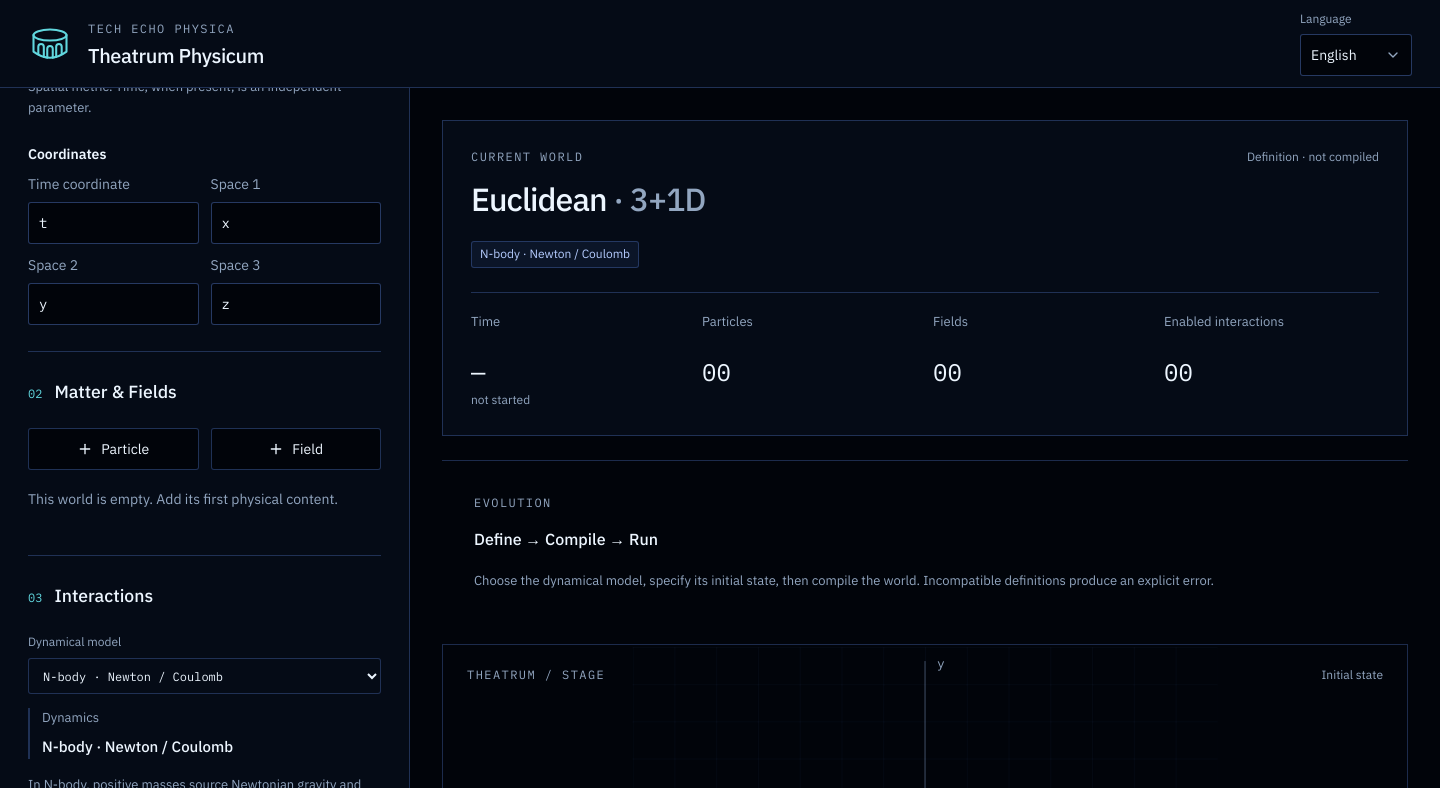
Test: Actual runtime controls › reports incompatible geometry instead of starting a fake runtime
(page scrolled)
Click the button "Particle" at coordinates (113, 449), box [28,428,198,470]
(page scrolled)
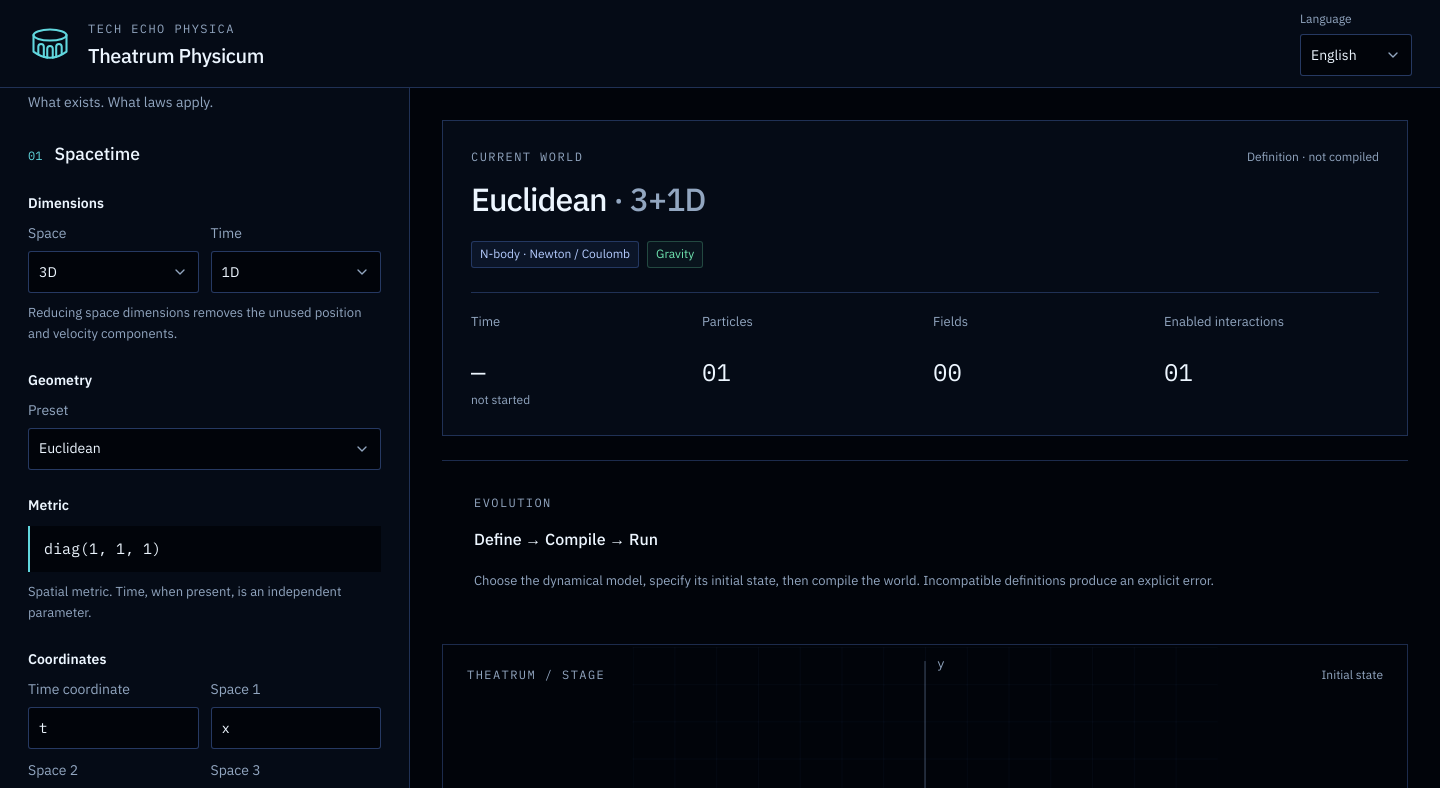
Click the dropdown named "Preset" at coordinates (70, 448), box [28,428,381,470]
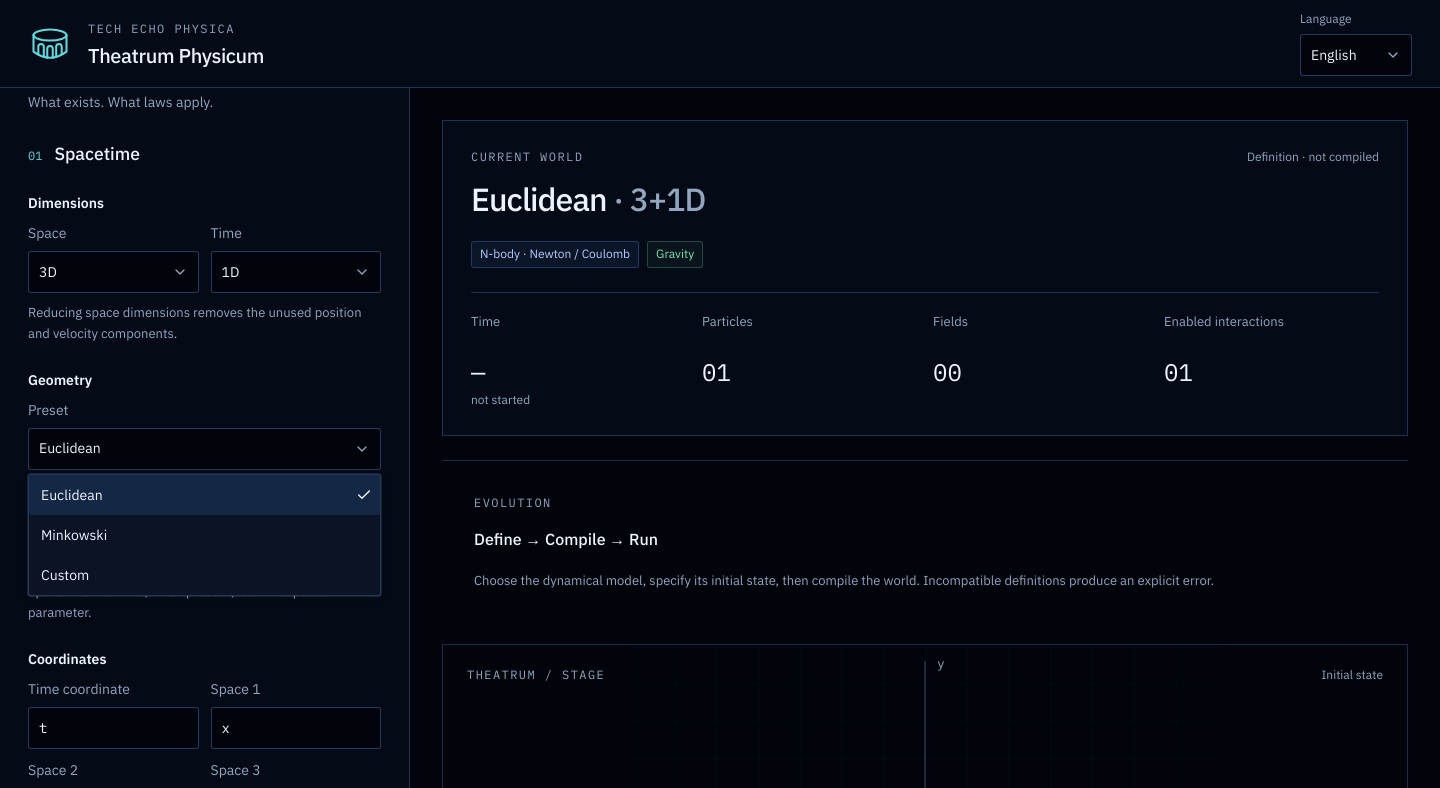
Click the option "Minkowski" at coordinates (74, 535), box [41,526,107,544]
(page scrolled)
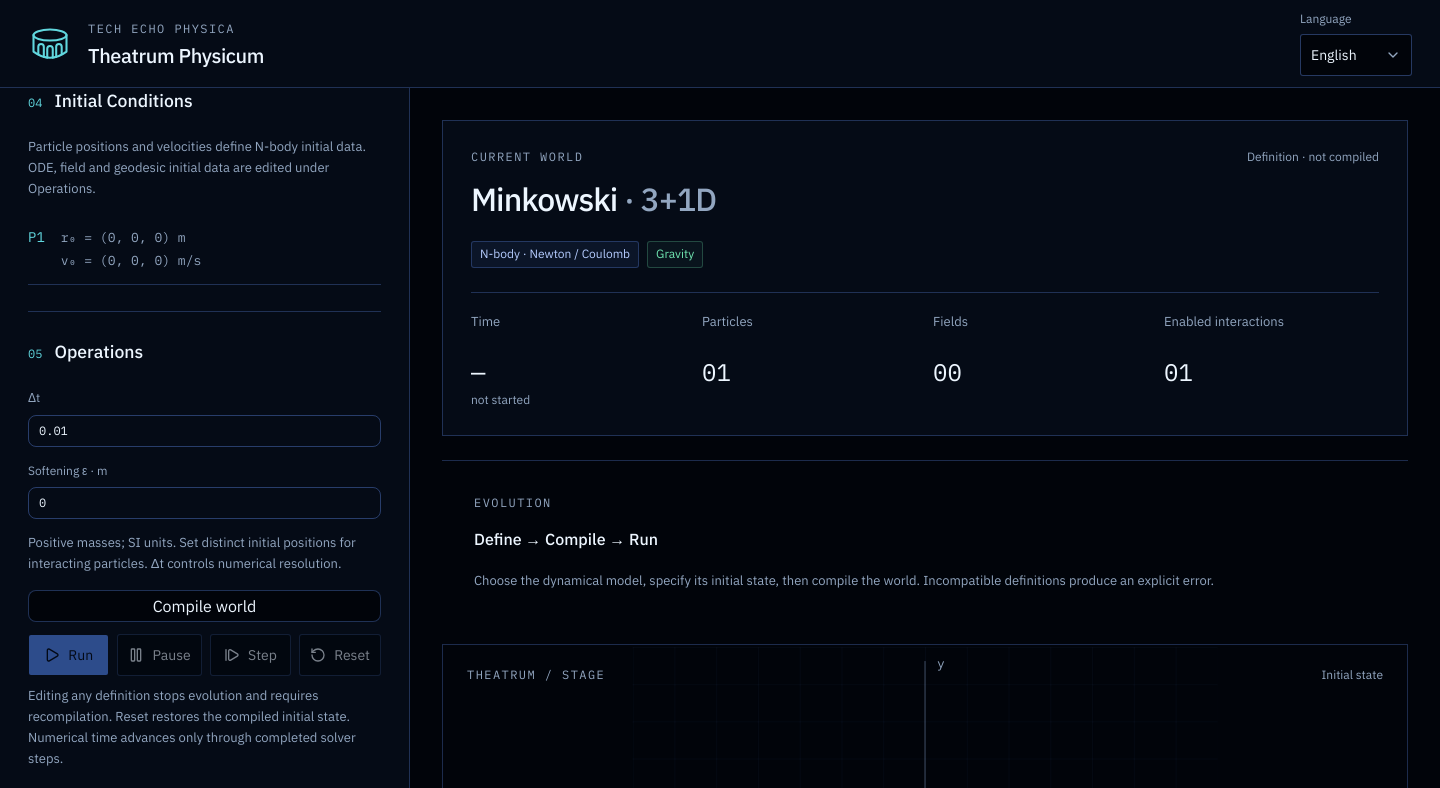
Click the button "Compile world" at coordinates (204, 606), box [28,590,381,622]
(page scrolled)
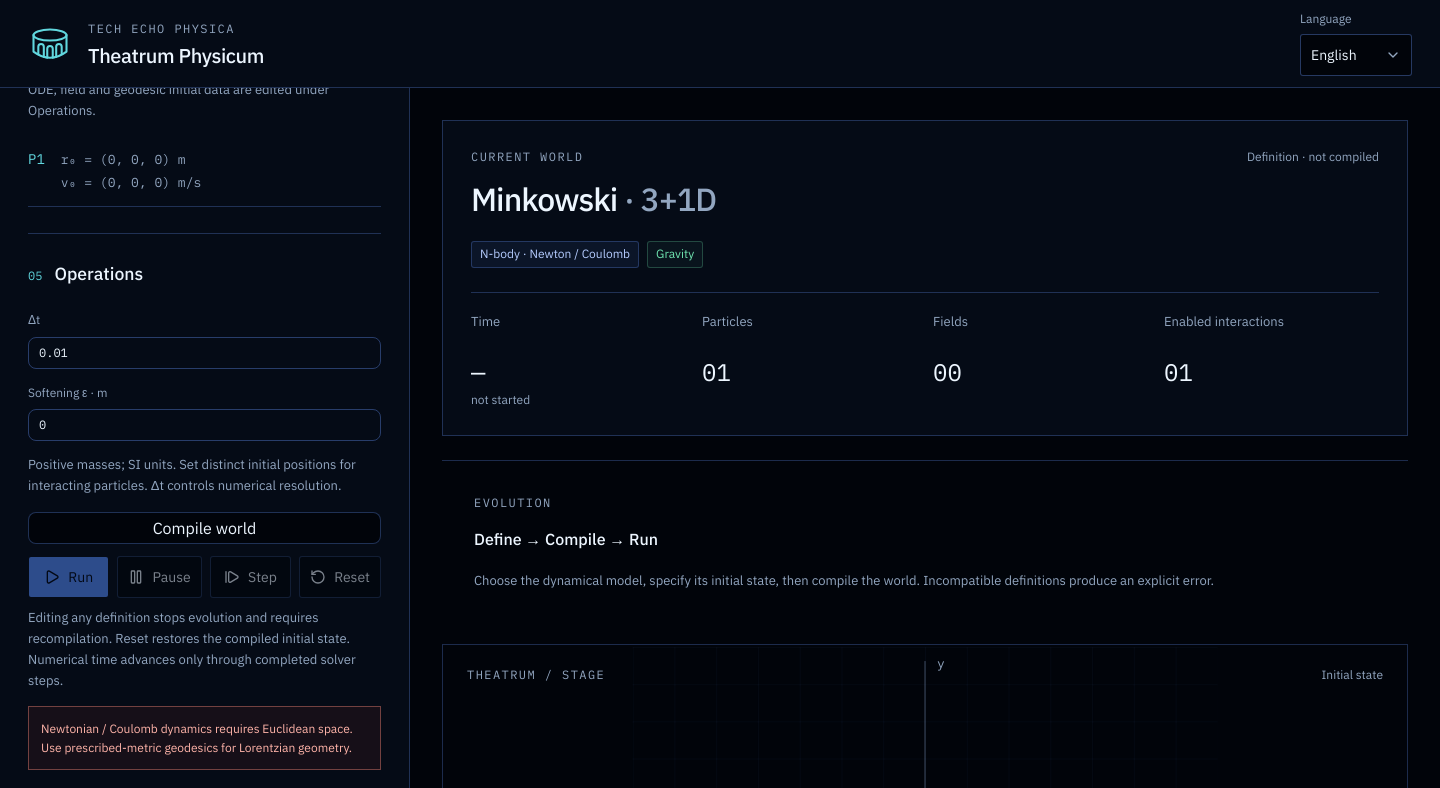
Check: the message shows "Euclidean", box [41,721,353,755]
